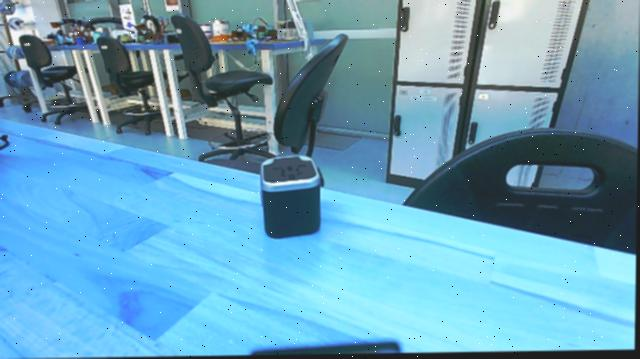adapter: (255, 154, 333, 246)
